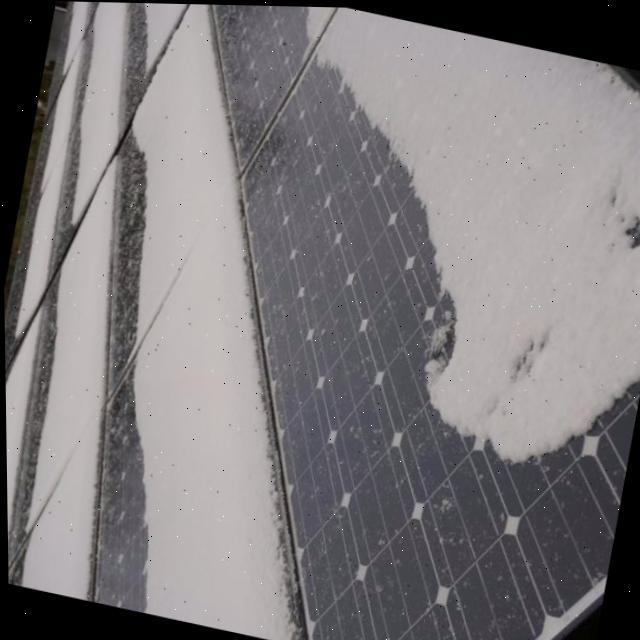Anomaly Solar Panel: (3, 1, 640, 640)
Snow: (282, 5, 640, 541), (123, 3, 299, 640), (21, 146, 123, 601), (13, 33, 88, 338), (68, 2, 134, 230), (4, 286, 50, 555), (122, 2, 199, 81), (62, 1, 91, 74)
